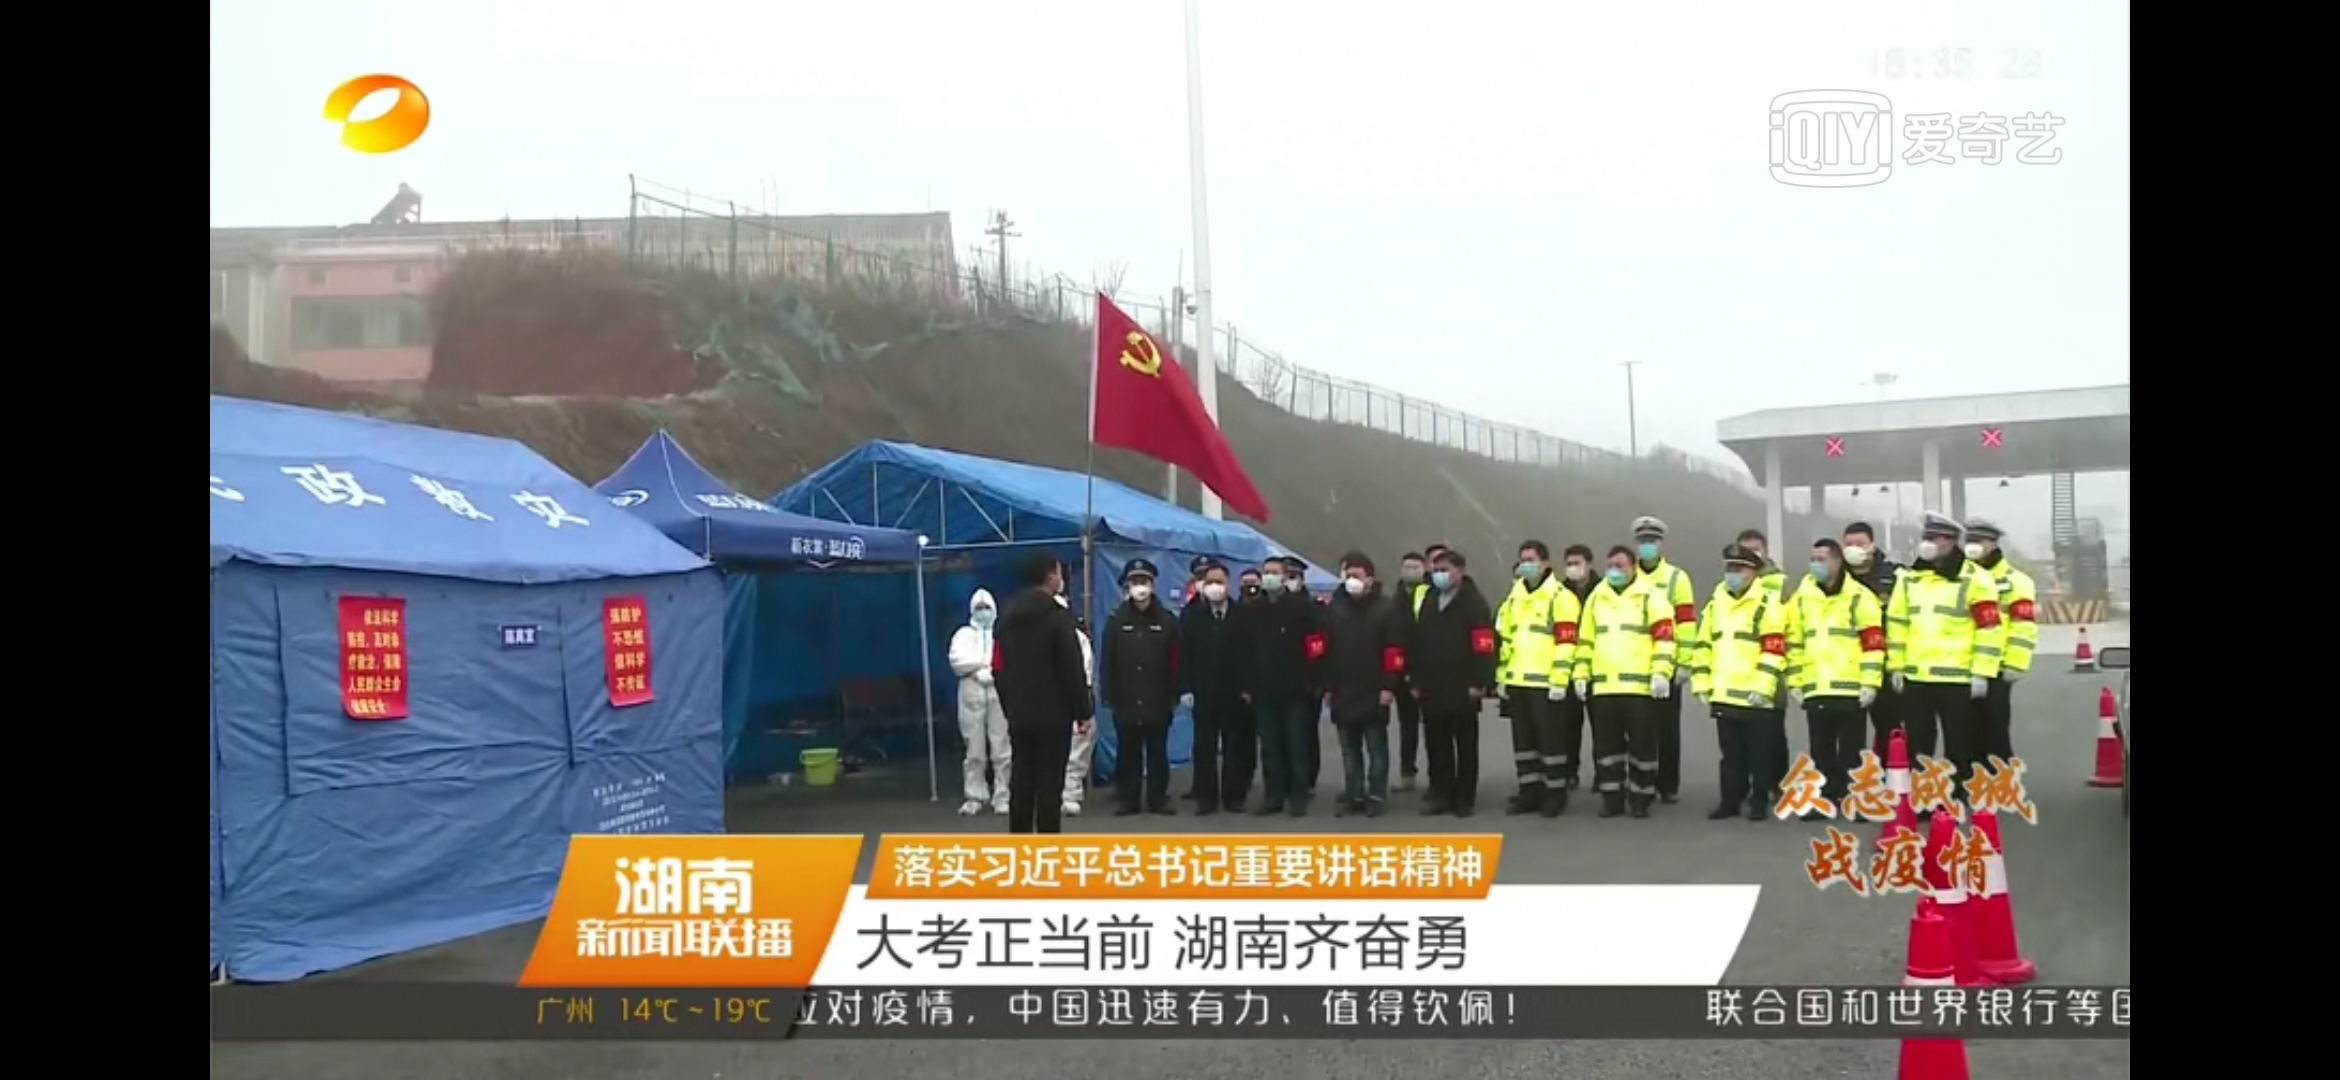correctlyWear: (1921, 531, 1958, 565), (1809, 550, 1840, 585), (1722, 562, 1756, 594), (1843, 537, 1876, 568), (1433, 562, 1464, 595), (1519, 550, 1549, 585), (1606, 556, 1636, 589), (1965, 533, 1997, 562), (1345, 568, 1374, 598), (1637, 536, 1664, 562), (1565, 555, 1591, 583), (1204, 577, 1230, 606), (1128, 577, 1154, 606), (1263, 562, 1285, 594), (1239, 576, 1263, 601), (973, 603, 995, 630), (1401, 559, 1424, 586), (1048, 565, 1066, 594), (1286, 567, 1301, 594), (1192, 571, 1207, 591)
